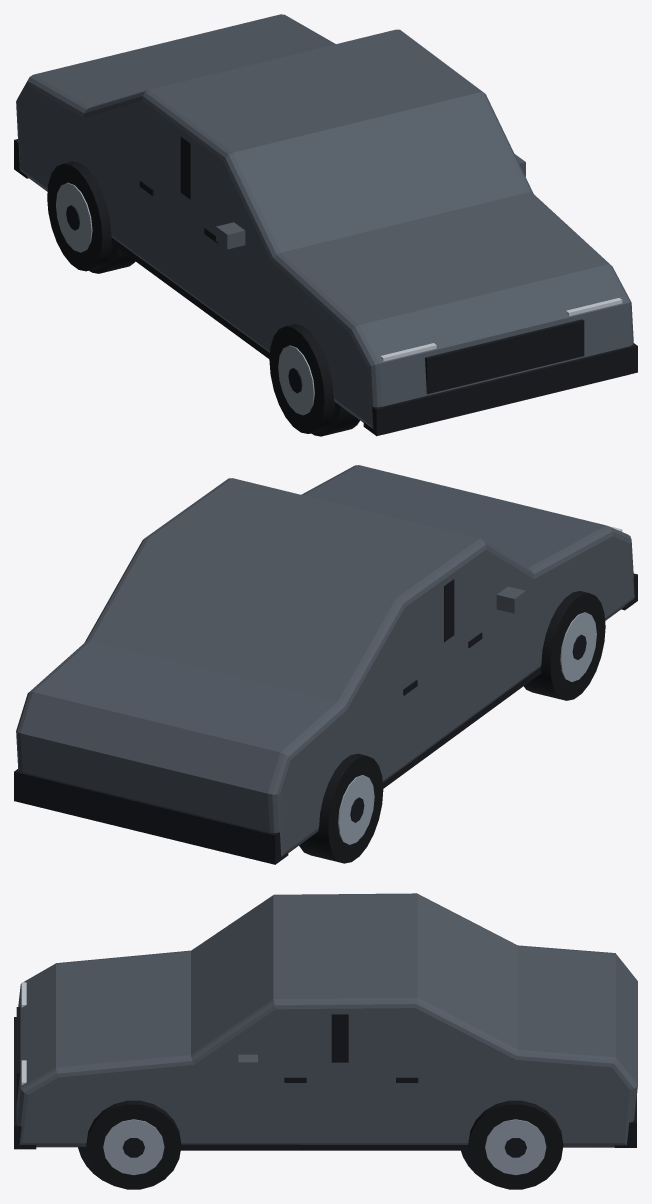
The model's file is korean_sedan.glb.
3 views of the same model, one above another, from view 1: azimuth 30°, elevation 25°; view 2: azimuth 150°, elevation 25°; view 3: azimuth 270°, elevation 25° (orthographic). The views are drawn at different scales.
Size of the model in its own units: 2.12 by 1.5 by 4.48.
